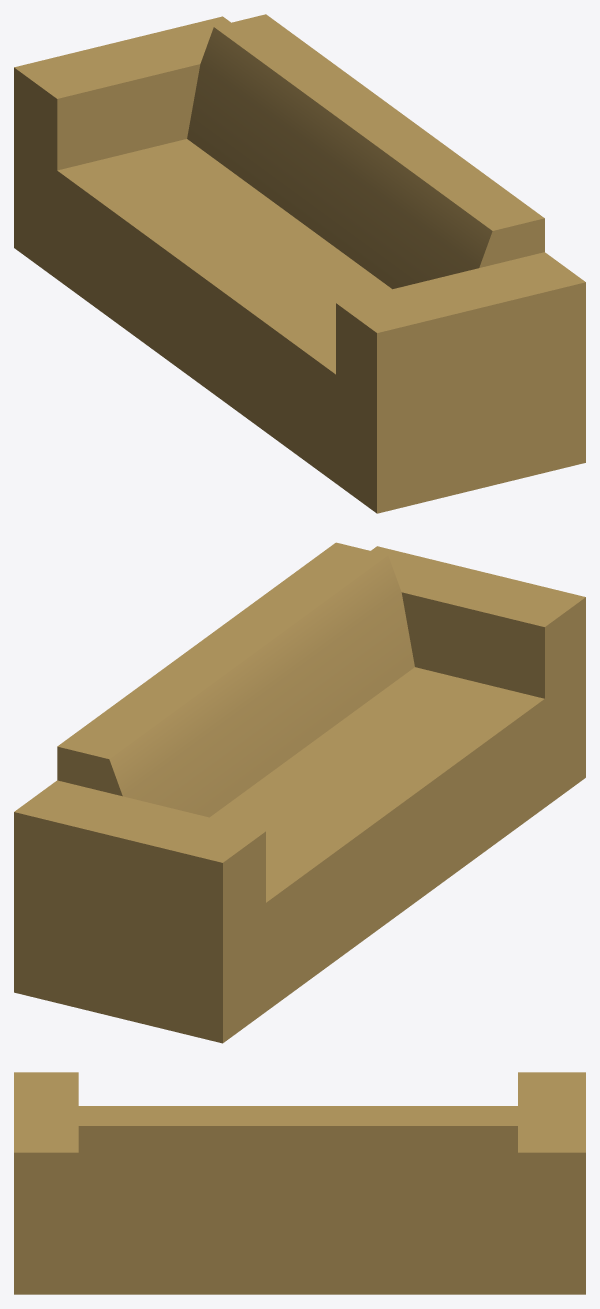
Rendered from Room_Sofa.fbx.
3 renders of one model, top to bottom at view 1: azimuth 30°, elevation 25°; view 2: azimuth 150°, elevation 25°; view 3: azimuth 270°, elevation 25°, orthographic. The views are drawn at different scales.
Parts seen in each view (by area): view 1: pCube1; view 2: pCube1; view 3: pCube1.
Boxes of the visible parts, x1,y1,x2,y2 form: pCube1: (14,14,585,513); pCube1: (14,542,585,1043); pCube1: (14,1072,585,1294).
Size of the model in its own units: 0.9816 by 0.9629 by 2.96.
Materials: 1 (1 with a texture image).
